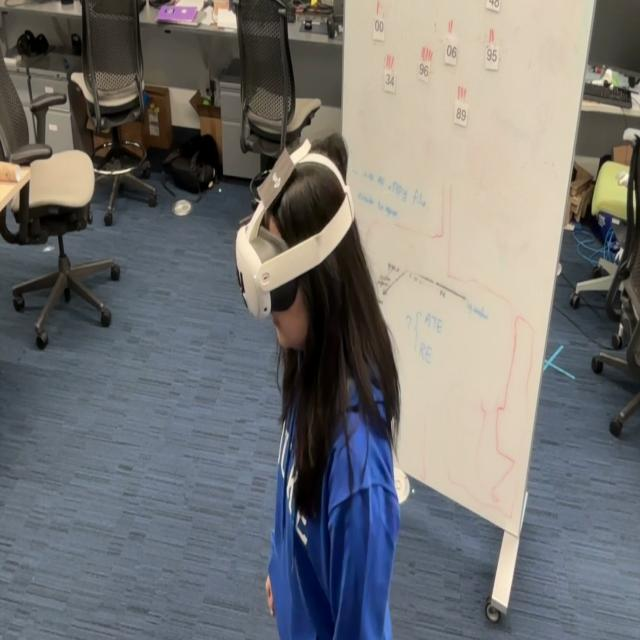Headset: (234, 144, 355, 320)
UnityLogo: (256, 143, 296, 214)
